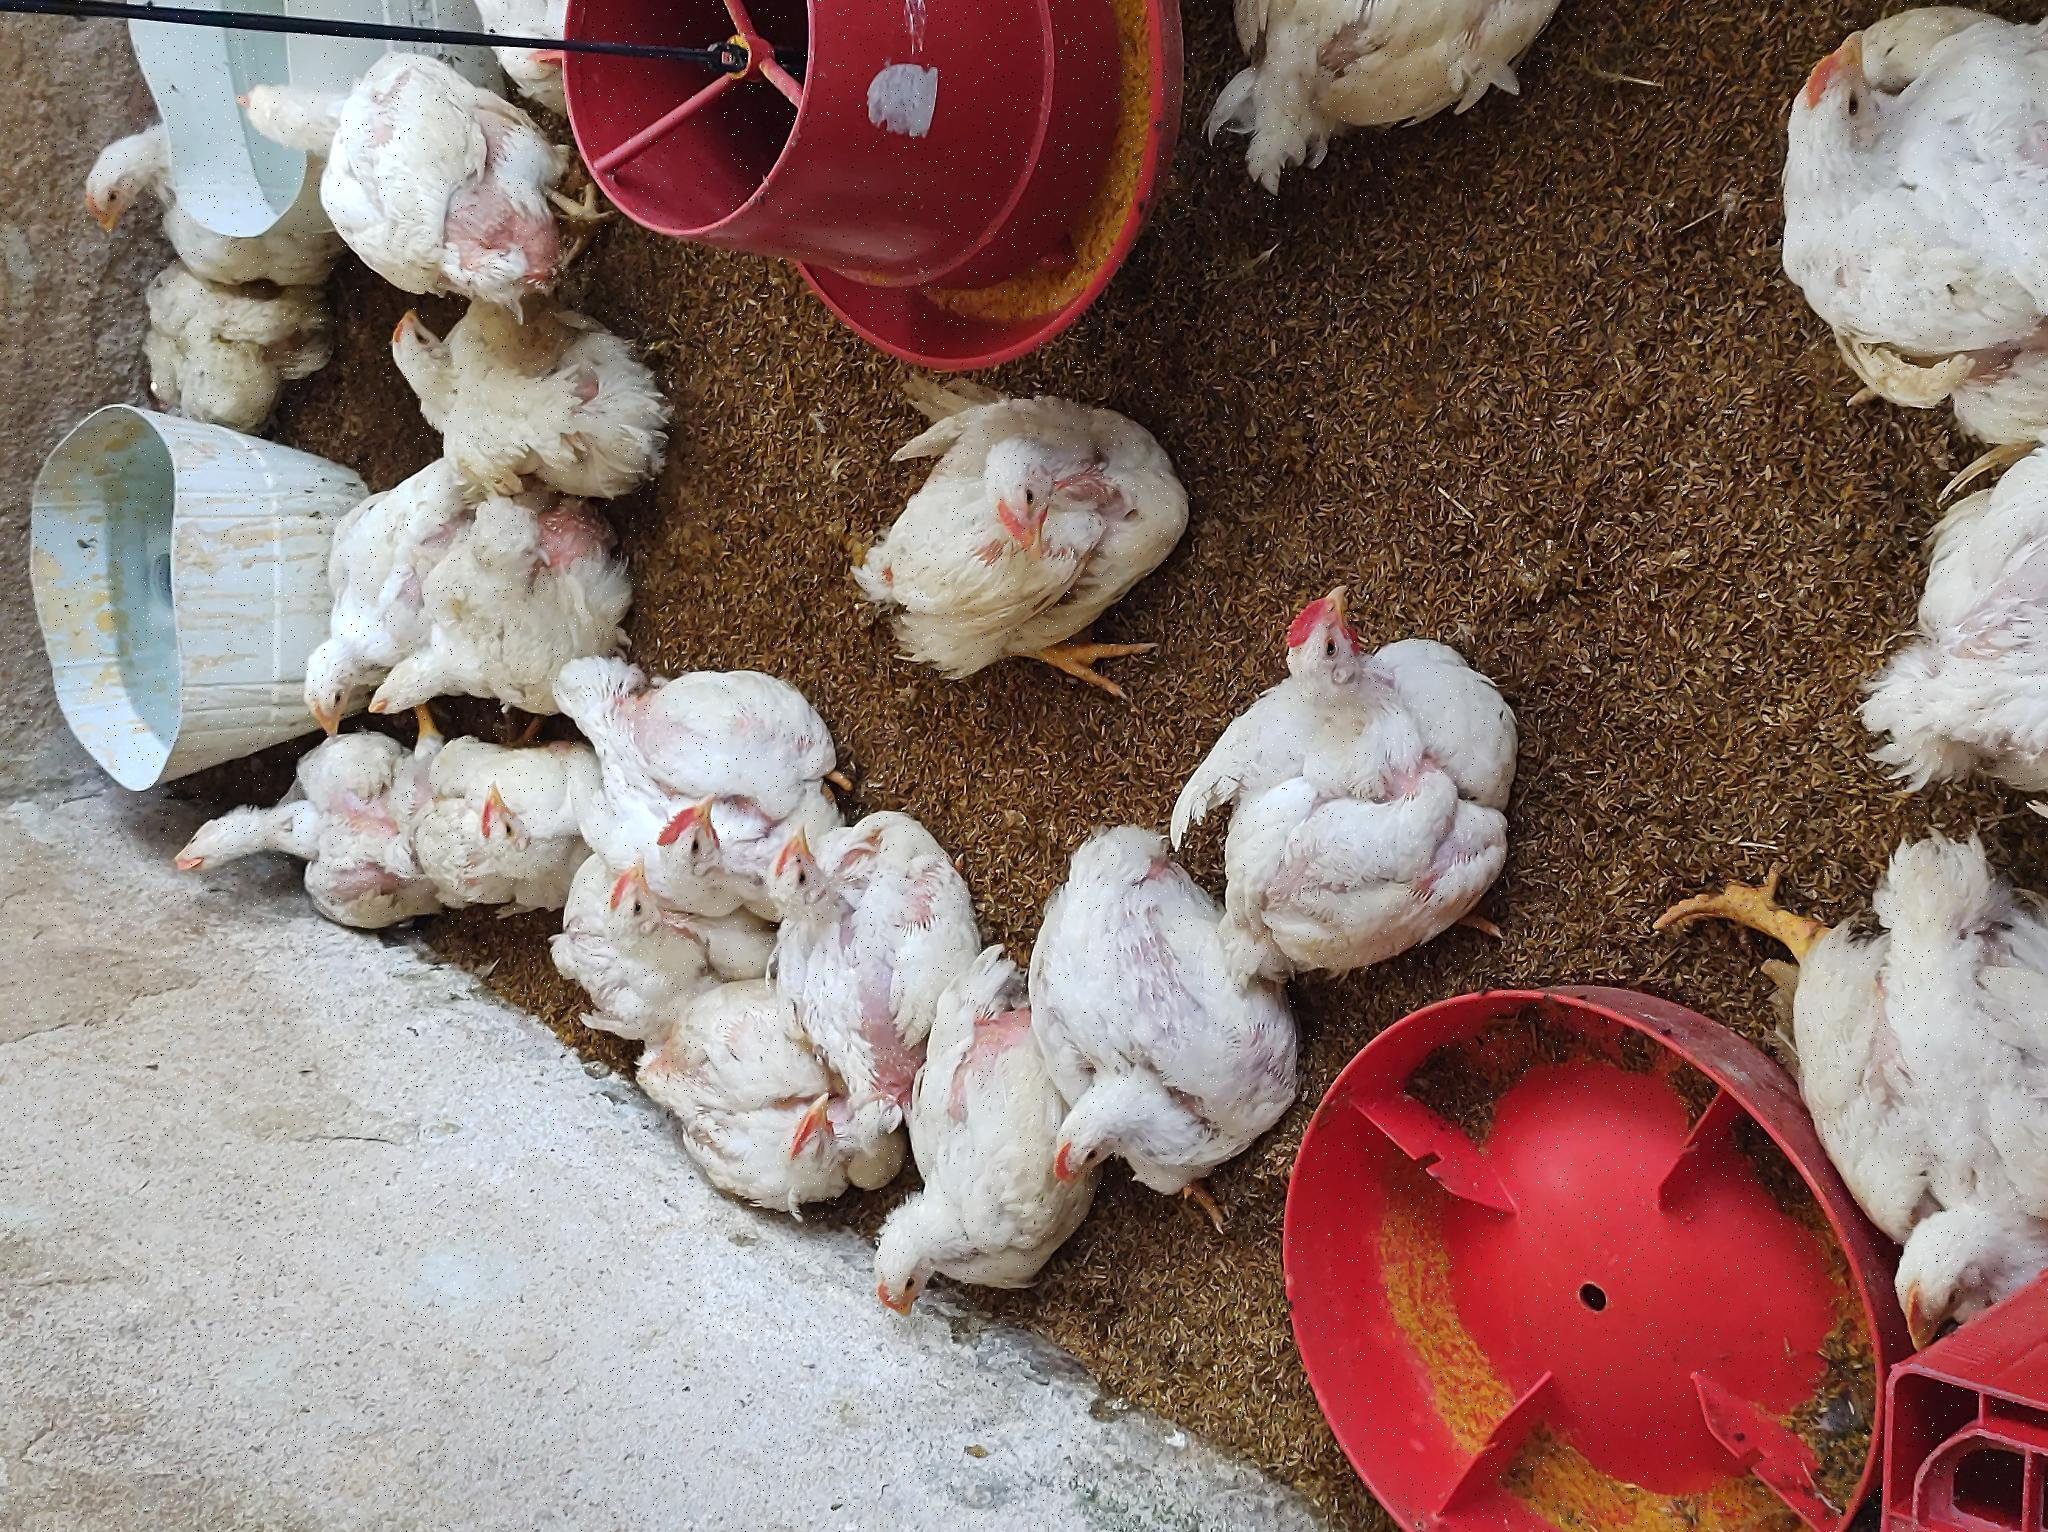Pollos: (574, 1191, 938, 1532), (857, 880, 1166, 1200), (1236, 249, 1504, 594), (354, 1035, 690, 1286), (767, 383, 1096, 616), (183, 890, 537, 1081), (587, 135, 803, 431), (1369, 1168, 1533, 1532), (1046, 383, 1252, 669), (489, 772, 718, 1015), (552, 626, 753, 822), (293, 666, 454, 903), (1051, 145, 1297, 291), (1276, 72, 1432, 266), (750, 257, 1009, 373), (602, 423, 803, 571), (476, 546, 655, 684)
